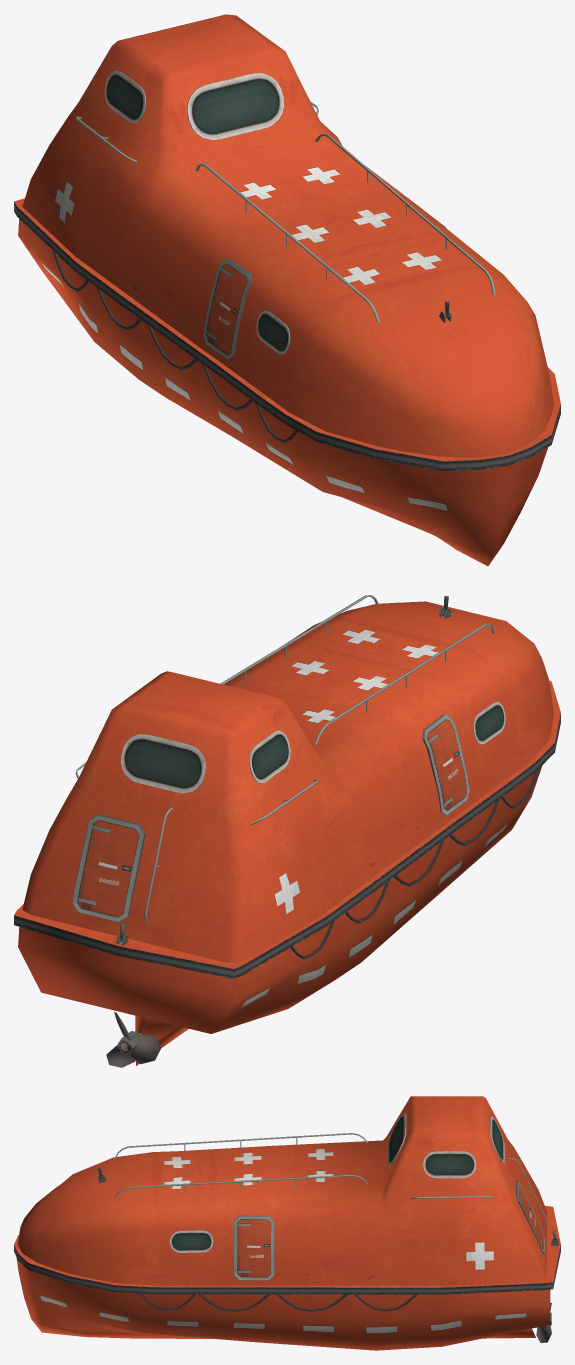
The model's file is lifeboat.fbx.
3 renders of one model, top to bottom at view 1: azimuth 30°, elevation 25°; view 2: azimuth 150°, elevation 25°; view 3: azimuth 270°, elevation 25°, orthographic. The views are drawn at different scales.
Visible parts, largest first — view 1: lifeboat_2; view 2: lifeboat_2; view 3: lifeboat_2.
Part boxes in pixels (bbox=[...]): lifeboat_2: bbox=[14, 14, 560, 566]; lifeboat_2: bbox=[14, 595, 560, 1067]; lifeboat_2: bbox=[14, 1096, 560, 1350].
Bounding box in the file's own units: 253 × 308 × 678.
